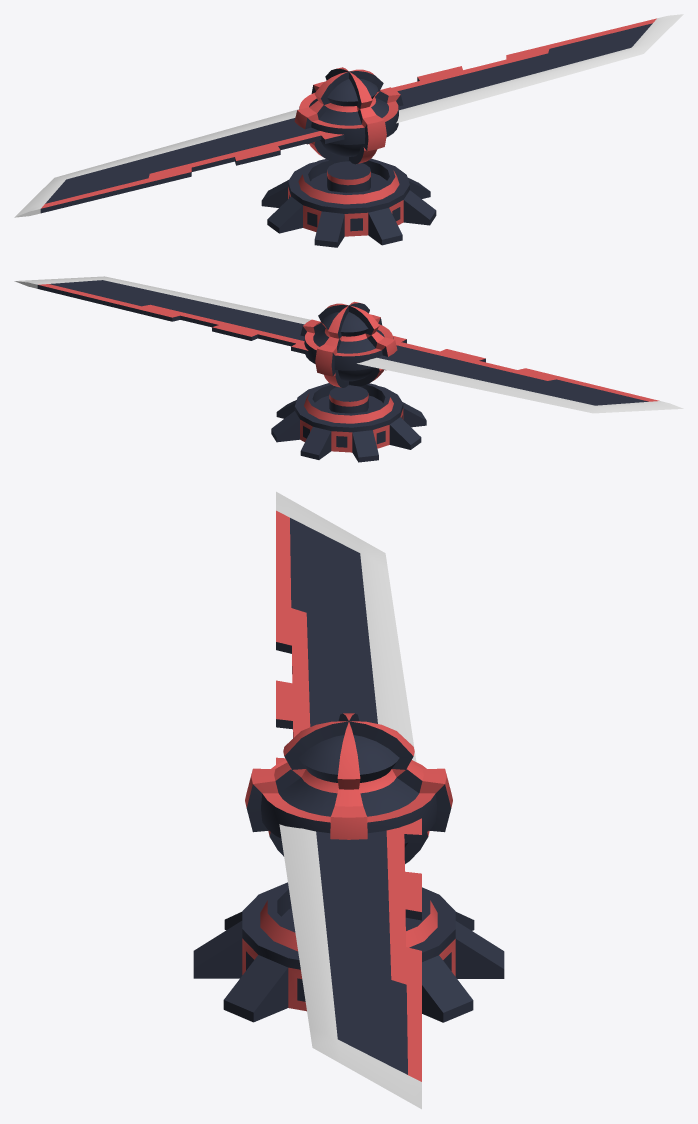
File: trap-turbine.fbx
3 views of the same model, one above another, from view 1: azimuth 30°, elevation 25°; view 2: azimuth 150°, elevation 25°; view 3: azimuth 270°, elevation 25° (orthographic). The views are drawn at different scales.
Visible parts, largest first — view 1: Blades, Base; view 2: Blades, Base; view 3: Blades, Base.
Part boxes in pixels (x1,y1,x2,y2): Blades: (14,14,683,217); Base: (261,158,436,247); Blades: (14,276,683,413); Base: (271,383,426,462); Blades: (245,491,452,1109); Base: (193,882,504,1022).
Bounding box in the file's own units: 800 × 150 × 170.
